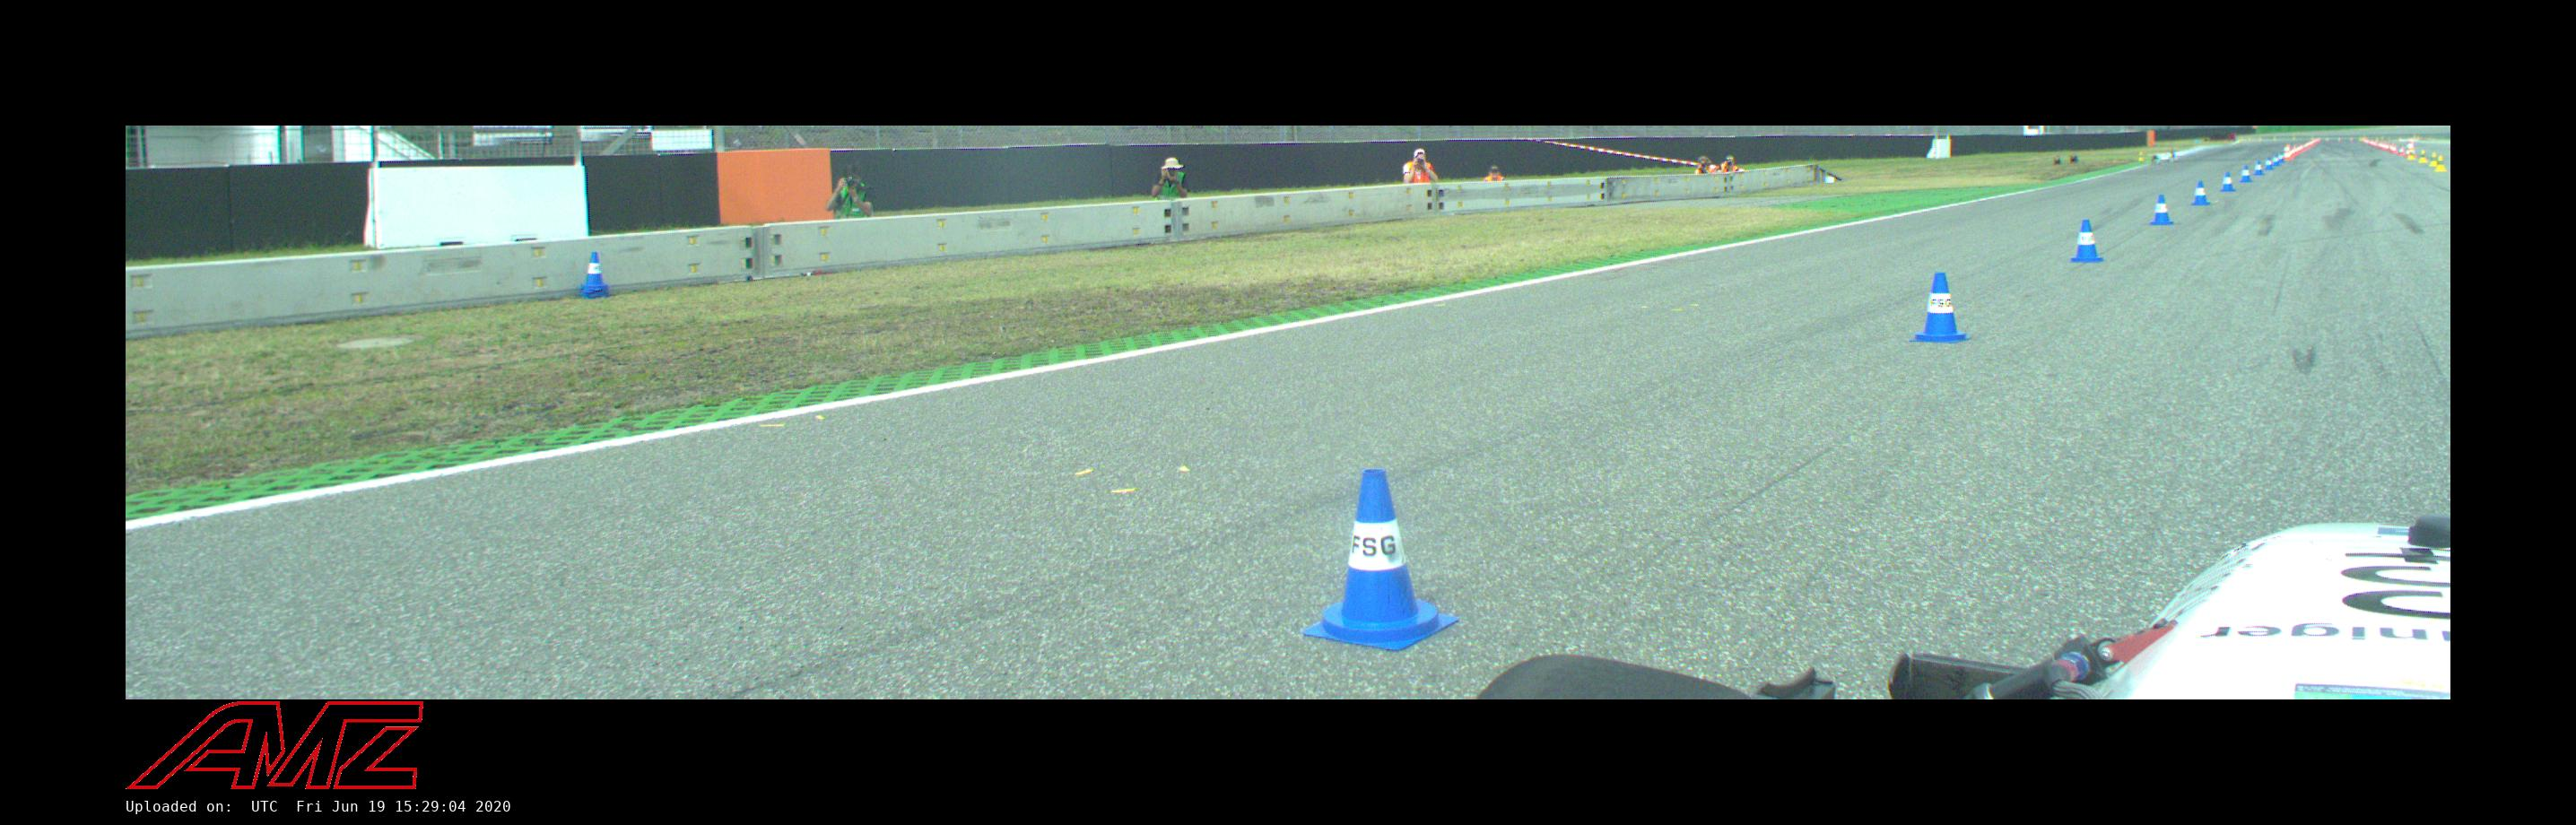blue_cone: (1303, 468, 1458, 651), (1910, 273, 1971, 343), (2069, 220, 2105, 262), (581, 252, 608, 289), (2149, 194, 2174, 226), (2190, 180, 2210, 205), (2219, 171, 2236, 192), (2240, 165, 2252, 183), (2253, 161, 2265, 176), (2264, 157, 2274, 170), (2272, 154, 2280, 167), (2277, 152, 2284, 163)
large_orange_cone: (2406, 142, 2415, 158), (2283, 144, 2290, 161)
yellow_cone: (2434, 156, 2448, 171), (2429, 152, 2439, 166), (2419, 151, 2427, 162), (2408, 150, 2415, 160), (2138, 152, 2145, 161)
